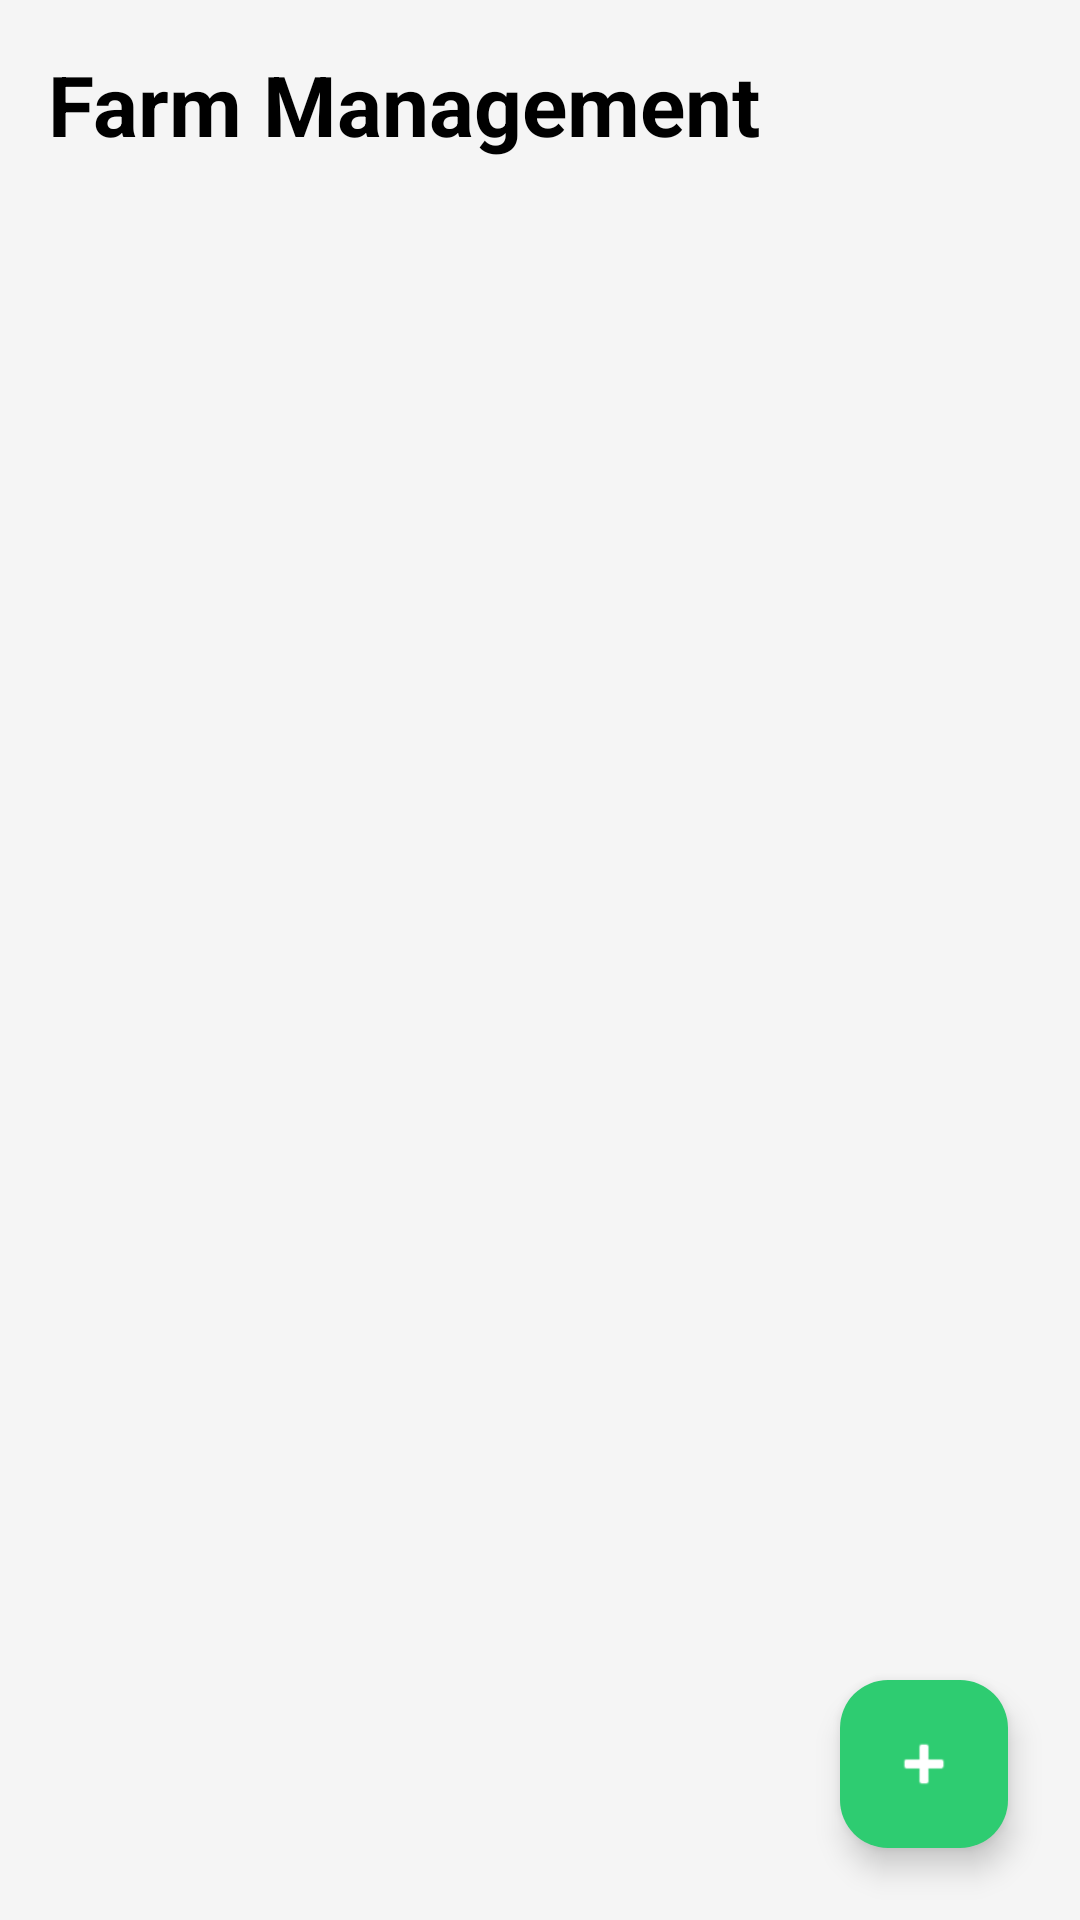

Named icons in this screenshot (1080px×1920px) and their bounding boxes, [left=x1, top=y1, right=x2, bottom=y2]:
Add Plot: [left=840, top=1680, right=1008, bottom=1848]
